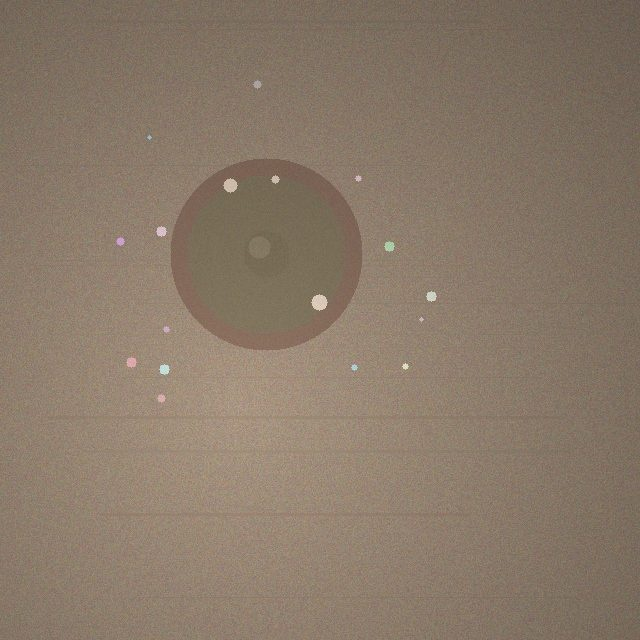overburn: (170, 158, 362, 350)
